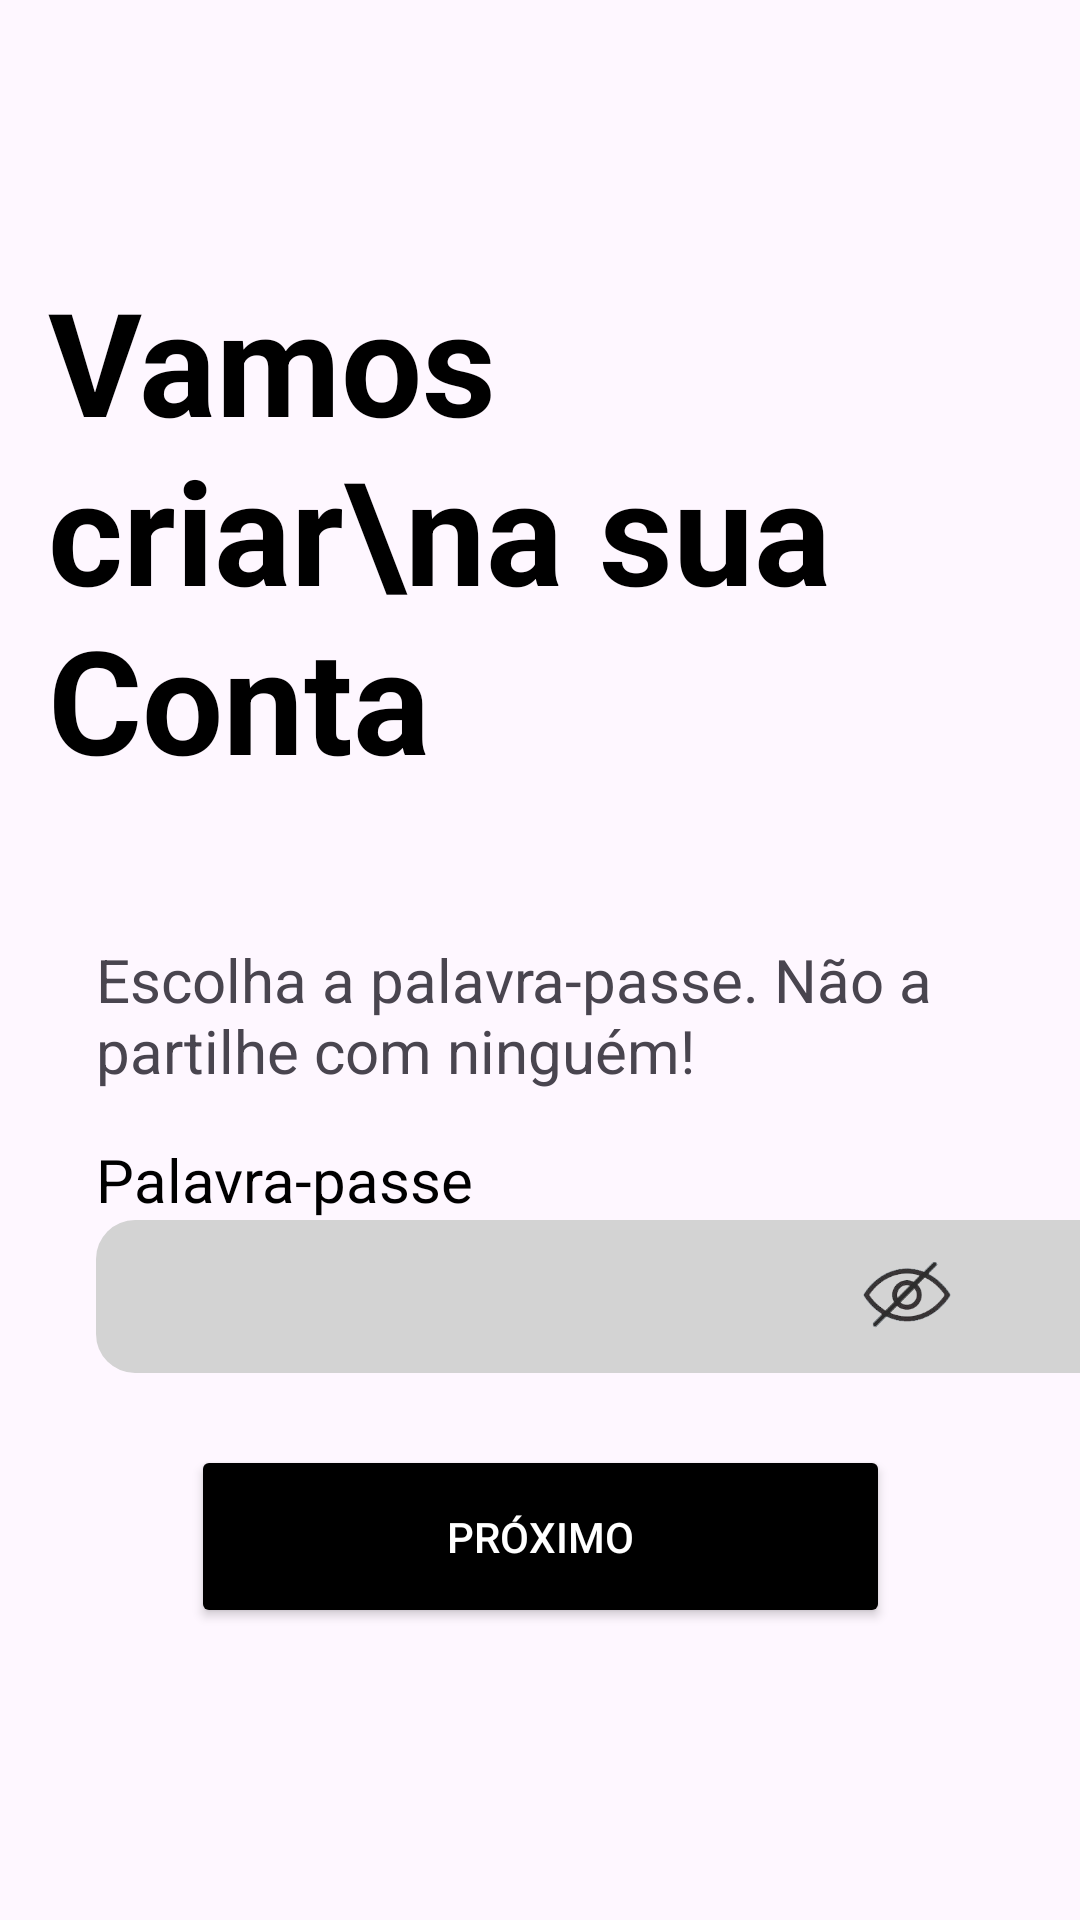

Named icons in this screenshot (1080*1920) and their centers, [x,y]:
Toggle Password Visibility: [907,1294]
